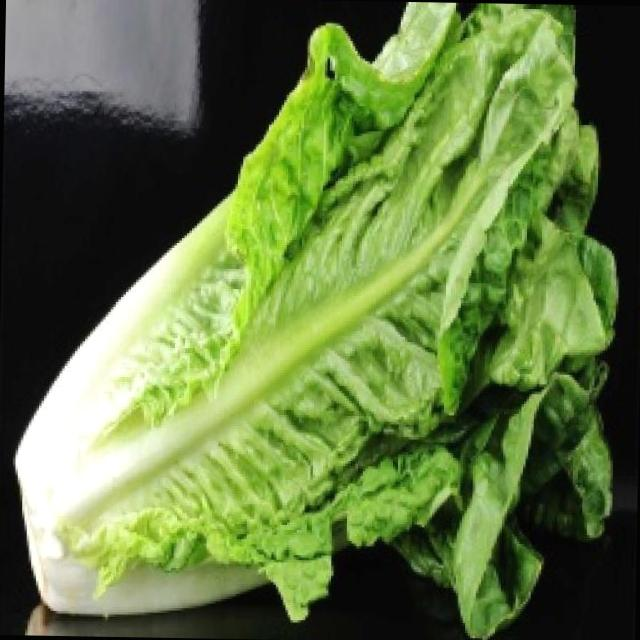Lettuce-Ready-to-Harvest: (15, 2, 615, 637)
